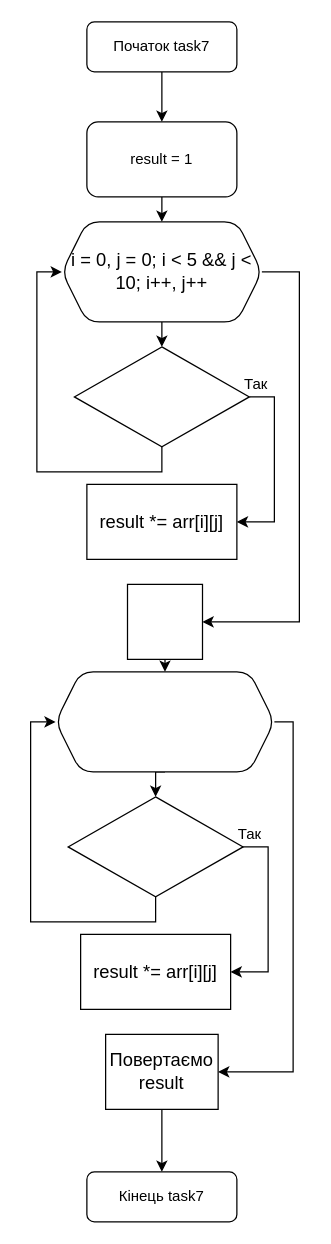
Image size: 331x1244. Some labels were removed from this diagram. Each missing label, with the box of its shape:
arr[i][j] != 0: (73, 346, 249, 447)
arr[i][j] != 0 && i != 2: (67, 796, 243, 897)
i = 0; i < 5 && j >= 0; i++, j--: (54, 671, 274, 772)
j--: (126, 583, 202, 659)
